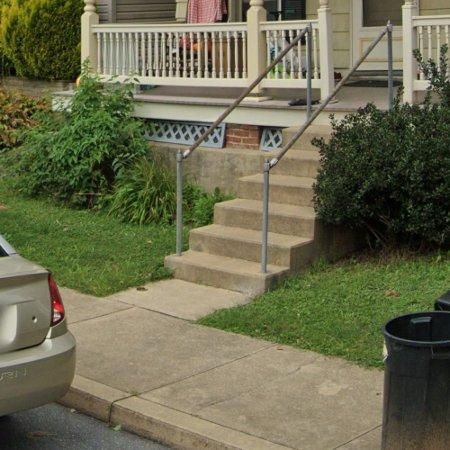stairs: (165, 126, 356, 296)
